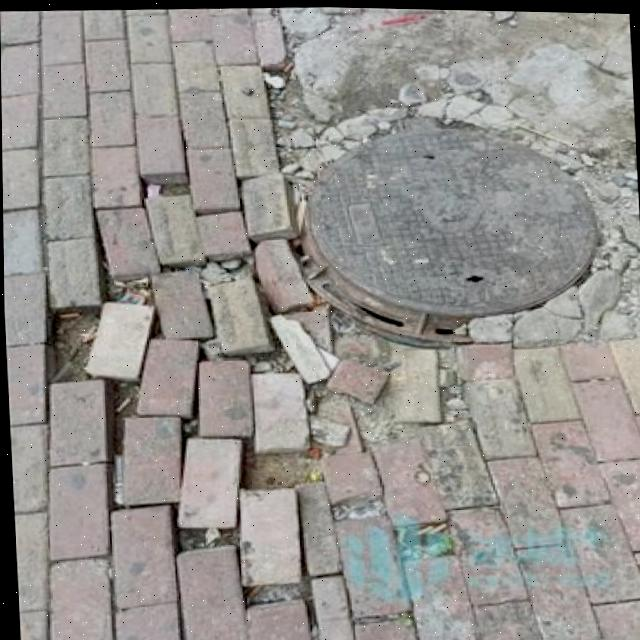manhole: (284, 103, 619, 341)
